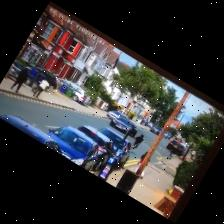person: (10, 69, 27, 92), (32, 78, 48, 97), (134, 152, 146, 172), (132, 135, 142, 148)
